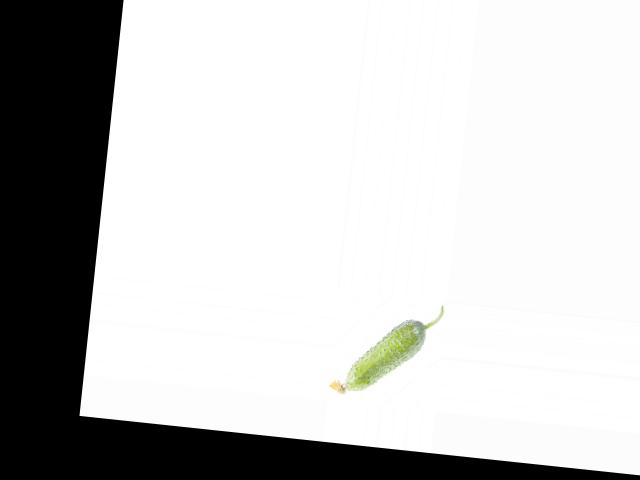cucumber: (327, 294, 444, 403)
